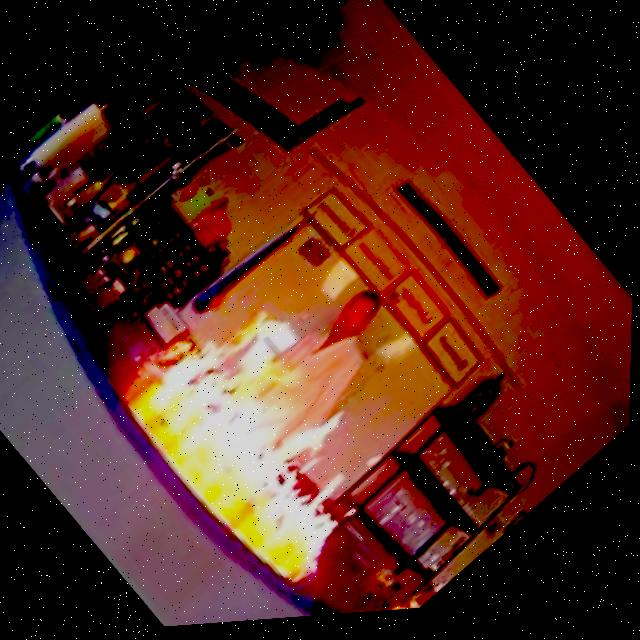Fire: (130, 264, 426, 593)
